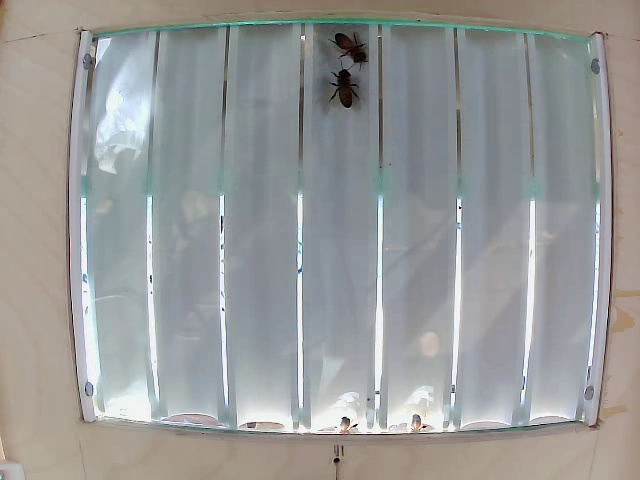bee: (330, 70, 363, 128), (333, 31, 369, 76)
